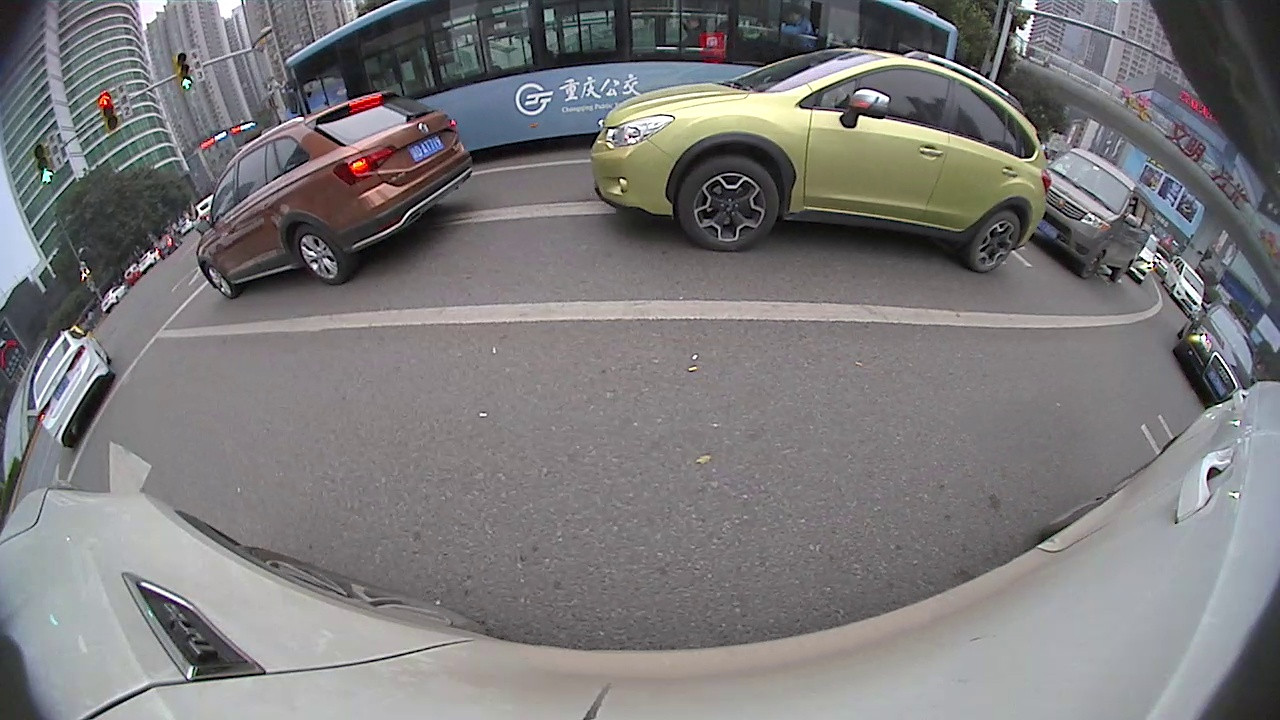bus: (279, 1, 960, 155)
car: (588, 45, 1053, 275), (195, 89, 477, 300), (1036, 146, 1158, 285), (31, 323, 119, 451), (1174, 298, 1264, 411), (1159, 254, 1207, 318), (1126, 230, 1161, 285)
front: (673, 154, 783, 257), (196, 257, 240, 301)
rear: (965, 206, 1025, 277), (290, 220, 352, 288)
